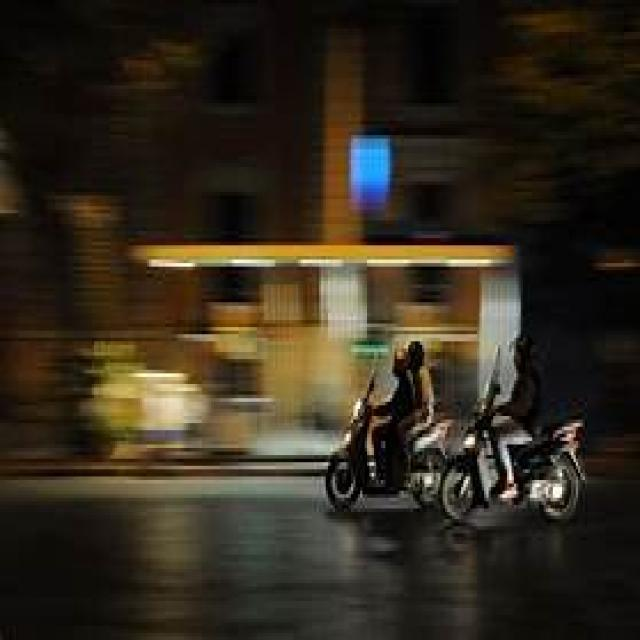Two Wheeler: (400, 386, 586, 523), (327, 376, 397, 511)
